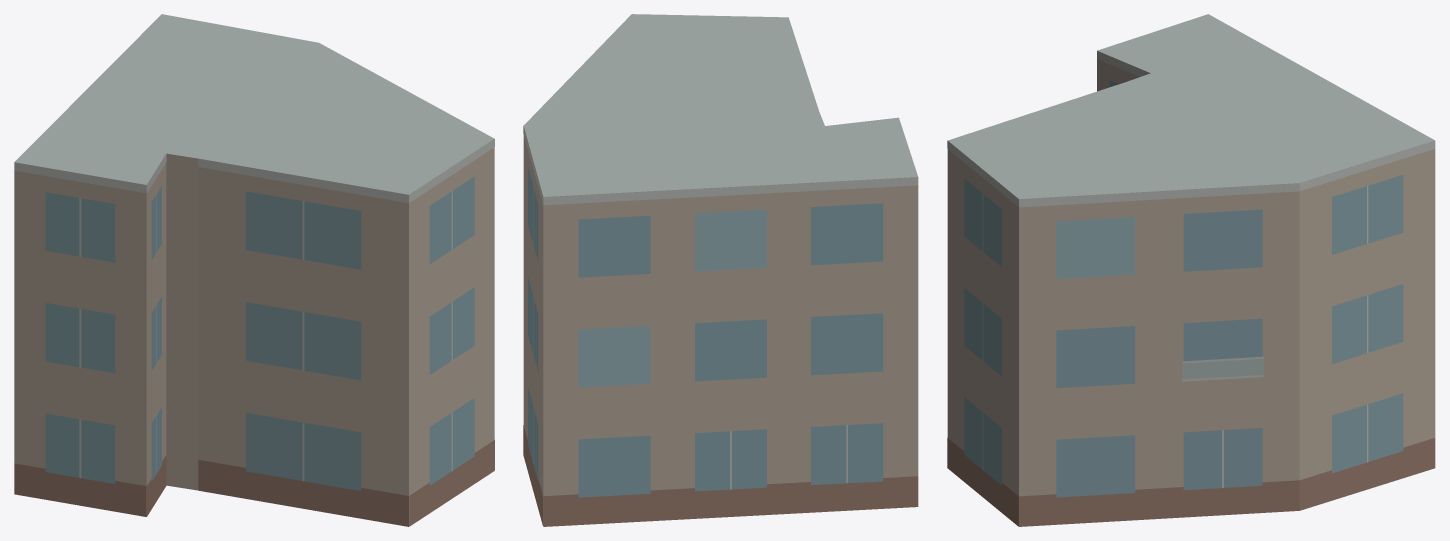
The model's file is survey-upis-33005113.glb.
3 renders of one model, left to right at view 1: azimuth 30°, elevation 25°; view 2: azimuth 150°, elevation 25°; view 3: azimuth 270°, elevation 25°, orthographic.
Visible parts, largest first — view 1: survey-upis-33005113.tmp; view 2: survey-upis-33005113.tmp; view 3: survey-upis-33005113.tmp.
Part boxes in pixels (left/top/right/bottom): survey-upis-33005113.tmp: left=14, top=14, right=494, bottom=526; survey-upis-33005113.tmp: left=523, top=14, right=918, bottom=526; survey-upis-33005113.tmp: left=947, top=14, right=1435, bottom=526.
Size of the model in its own units: 11.7 by 9.65 by 13.02.
